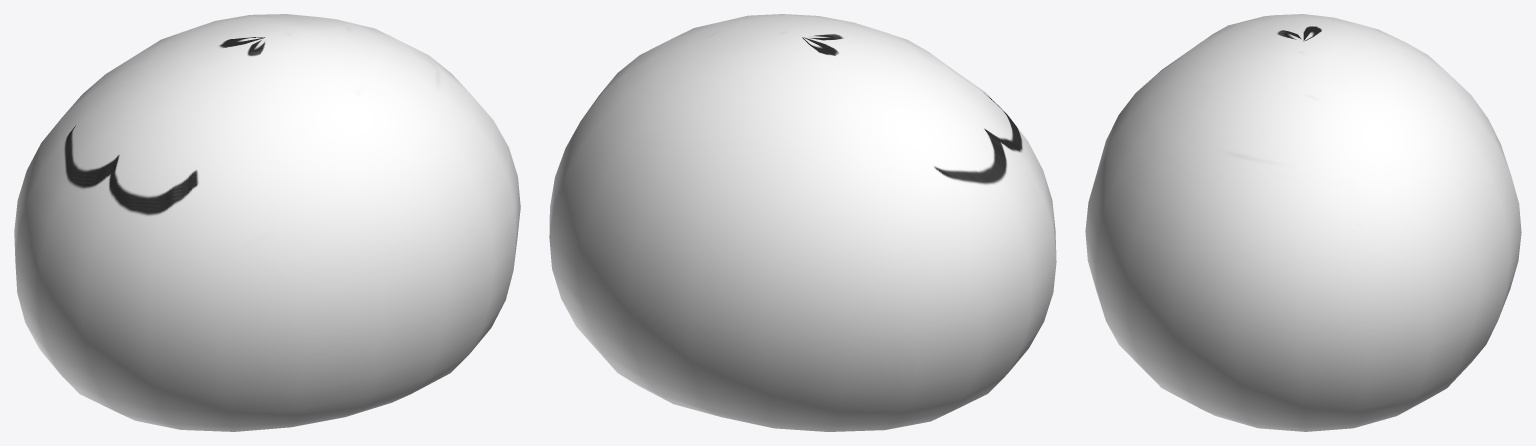
Rendered from mochi.fbx.
3 views of the same model, side by side, from view 1: azimuth 30°, elevation 25°; view 2: azimuth 150°, elevation 25°; view 3: azimuth 270°, elevation 25° (orthographic). The views are drawn at different scales.
Visible parts, largest first — view 1: mochi; view 2: mochi; view 3: mochi.
Part boxes in pixels (x1,y1,x2,y2): mochi: (14,14,520,431); mochi: (549,14,1056,431); mochi: (1085,14,1521,431).
Bounding box in the file's own units: 15.53 × 11.11 × 13.33.
